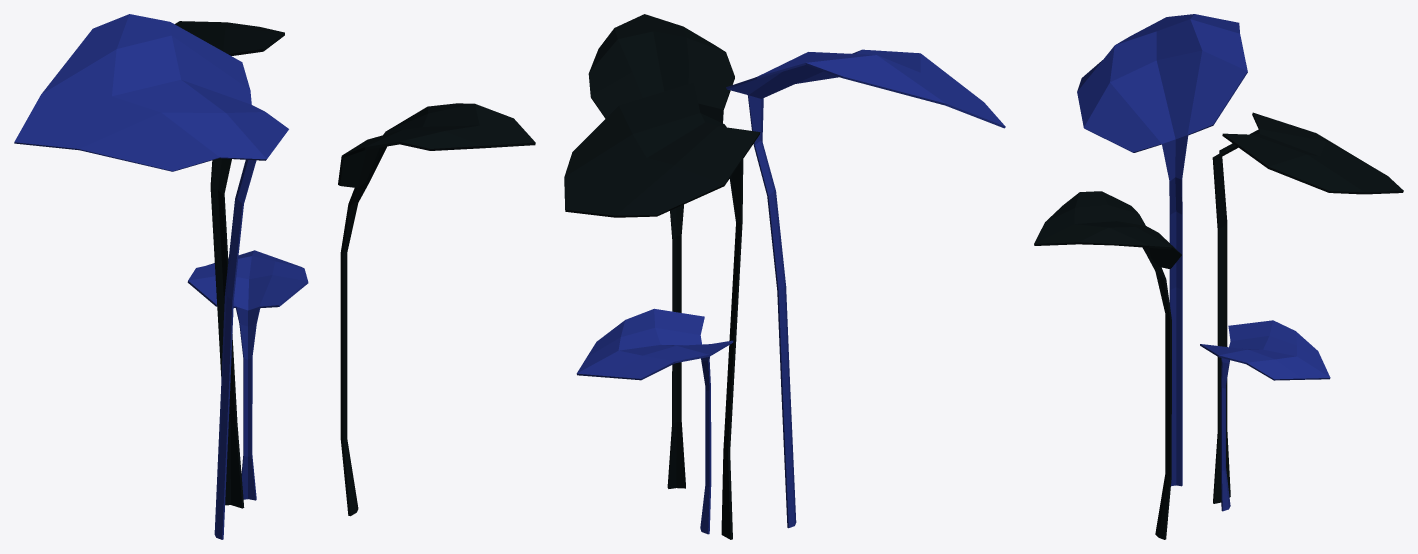
Rendered from st3_plant12.fbx.
3 views of the same model, side by side, from view 1: azimuth 30°, elevation 25°; view 2: azimuth 150°, elevation 25°; view 3: azimuth 270°, elevation 25° (orthographic). The views are drawn at different scales.
Visible parts, largest first — view 1: stage3_map_object_leaf_4_1; view 2: stage3_map_object_leaf_4_1; view 3: stage3_map_object_leaf_4_1.
Boxes of the visible parts, box(x1,y1,x2,y2) form: stage3_map_object_leaf_4_1: box(14, 14, 535, 539); stage3_map_object_leaf_4_1: box(564, 14, 1005, 539); stage3_map_object_leaf_4_1: box(1034, 14, 1403, 539).
Bounding box in the file's own units: 702 × 761 × 593.
